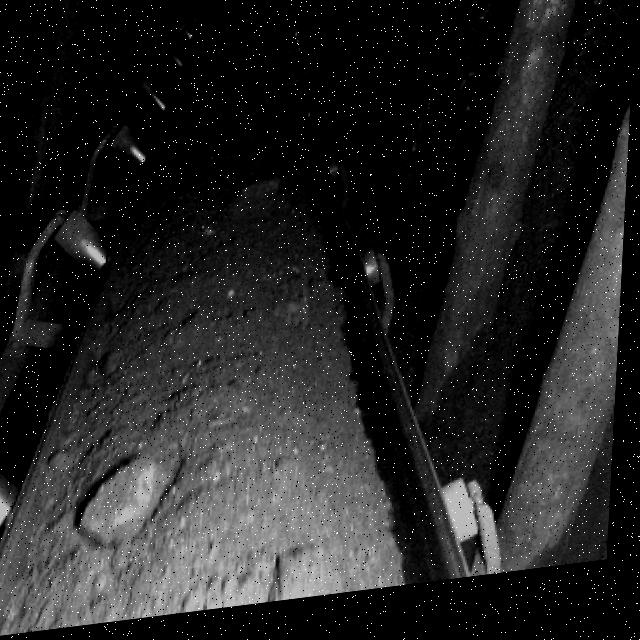bolt: (233, 585, 299, 614)
large_sized_coal: (88, 459, 169, 547), (220, 182, 287, 234)
